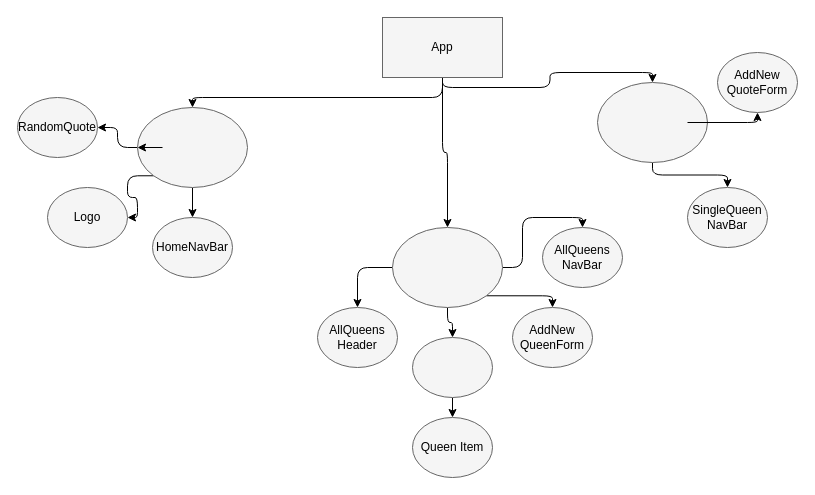
The diagram is 815 pixels wide and 495 high, and some of its shapes have lost their labels. The centre of each missing label's shape, as x and y in pixels:
"HomePage" goes at point (192, 147).
"QueensList" goes at point (452, 367).
"QueensPage" goes at point (447, 267).
"Single QueenPage" goes at point (652, 122).
